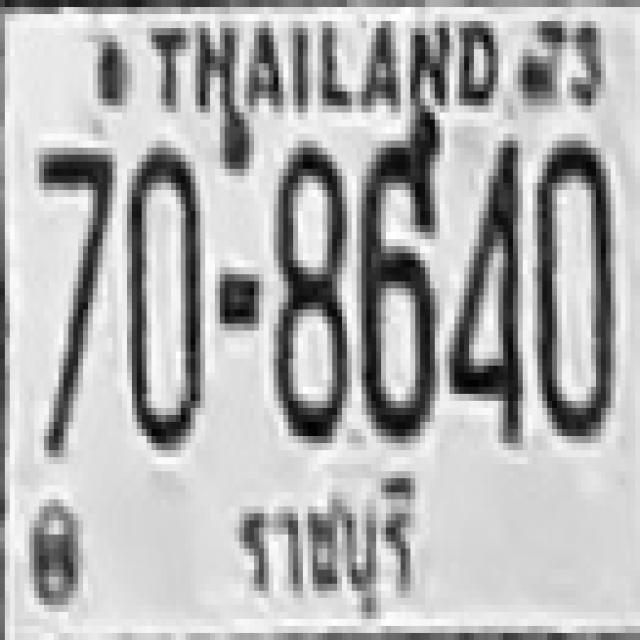0: (532, 134, 610, 436), (125, 141, 202, 443)
4: (444, 130, 518, 440)
6: (356, 127, 434, 436)
7: (34, 141, 112, 436), (34, 137, 112, 341)
8: (271, 134, 345, 436)
RBR: (219, 466, 434, 630)
